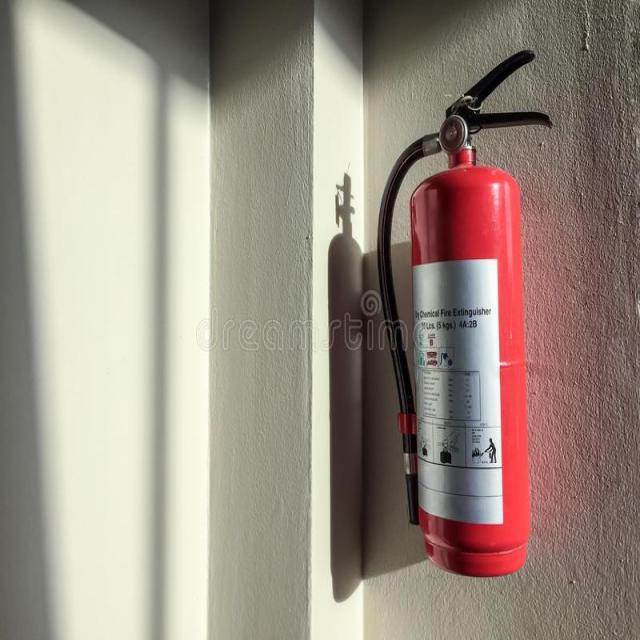fire_extinguisher: (373, 44, 559, 580)
